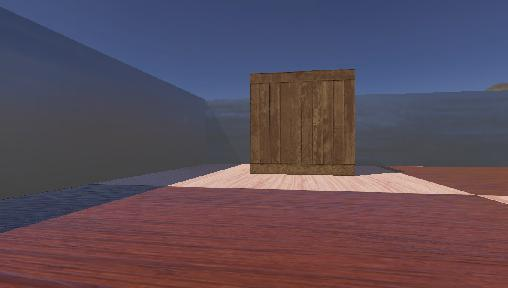WoodenBox: (240, 58, 368, 183)
